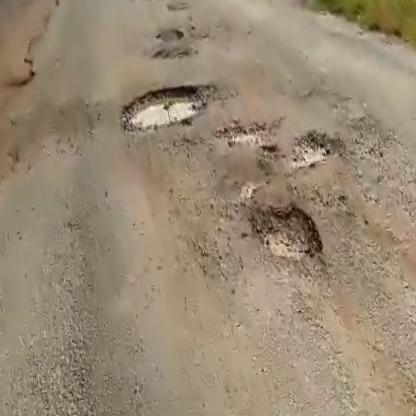pothole: (114, 73, 223, 142), (245, 191, 326, 268), (289, 122, 351, 170), (214, 114, 272, 158)
